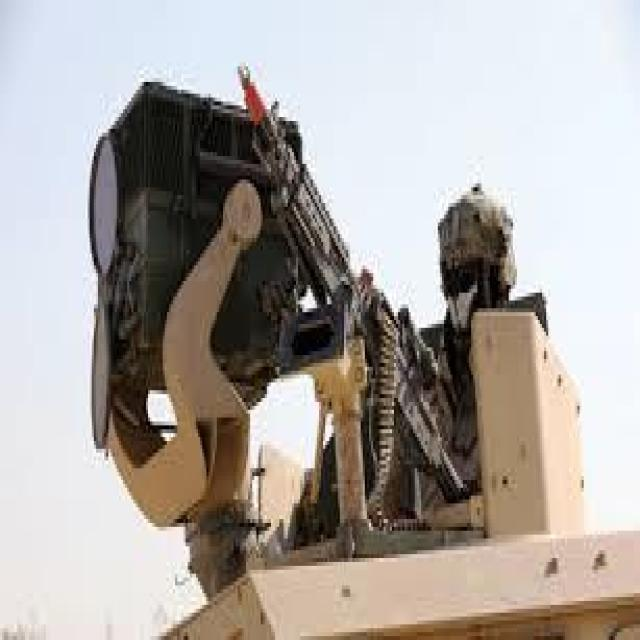Tanks: (217, 306, 571, 630)
